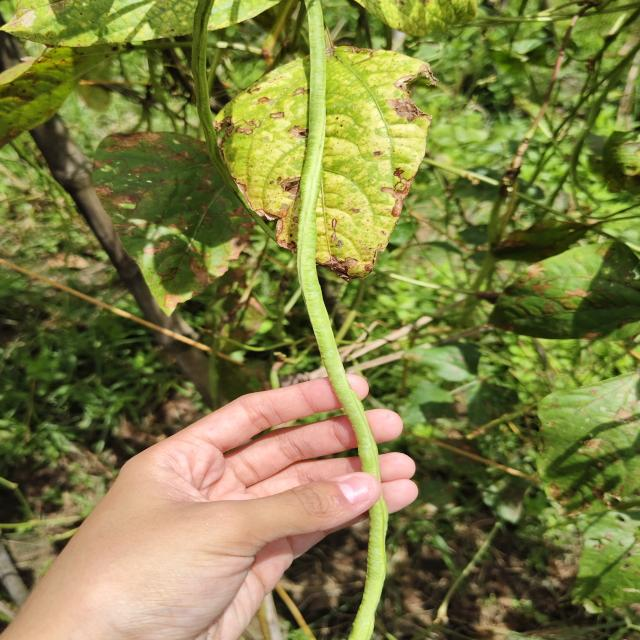10: (296, 0, 380, 479), (348, 498, 389, 640)
leaf-moderate: (93, 131, 254, 320)
sitaw-aphid-low: (316, 50, 431, 279), (475, 223, 640, 342), (222, 60, 309, 251)
